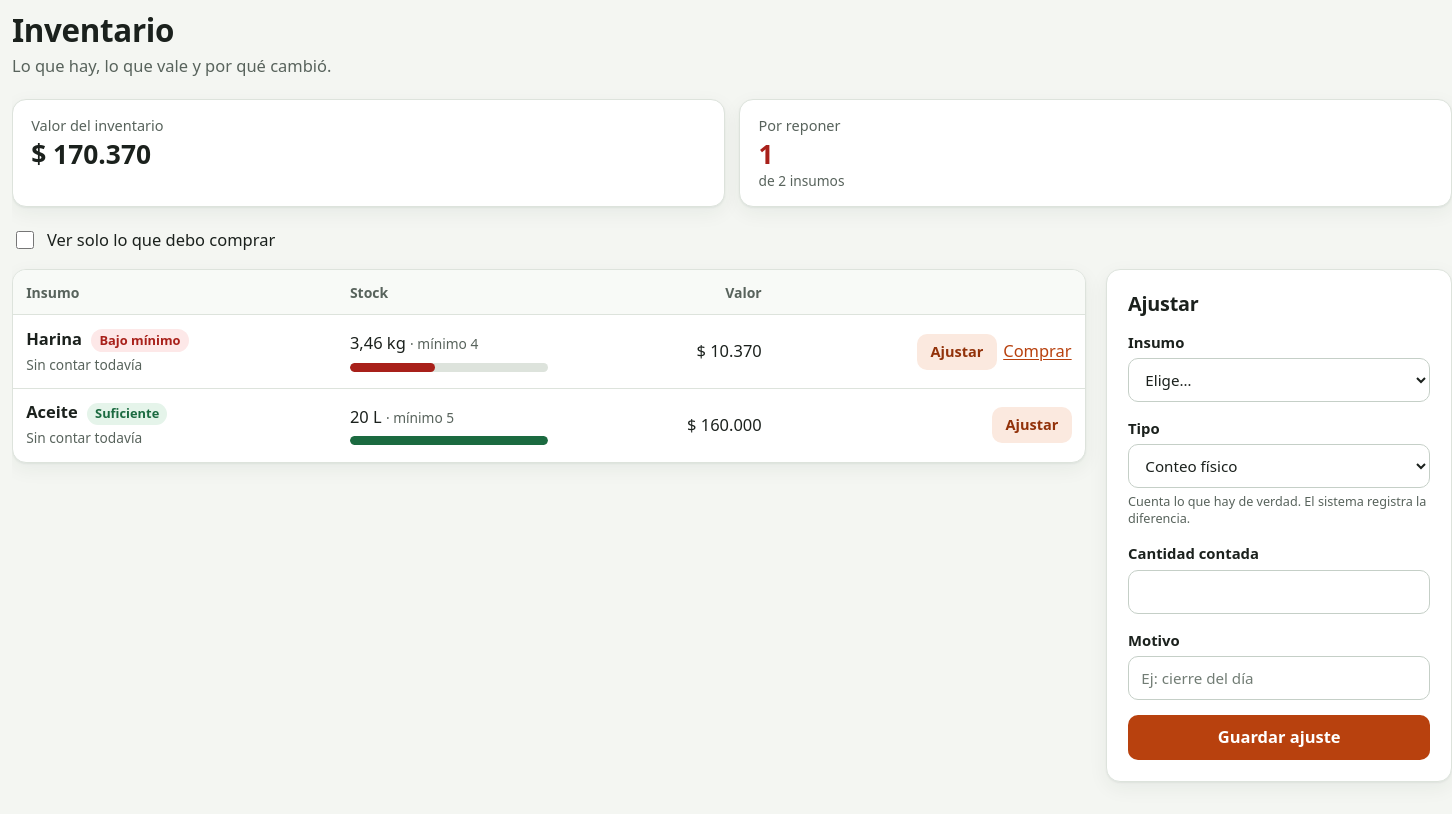
Test case: HU-30 Inventario claro (funcionales) › CA-3: puedo ver solo lo que debo comprar
Click the checkbox labelled "Ver solo lo que debo comprar": (25,240) [16, 231, 34, 249]
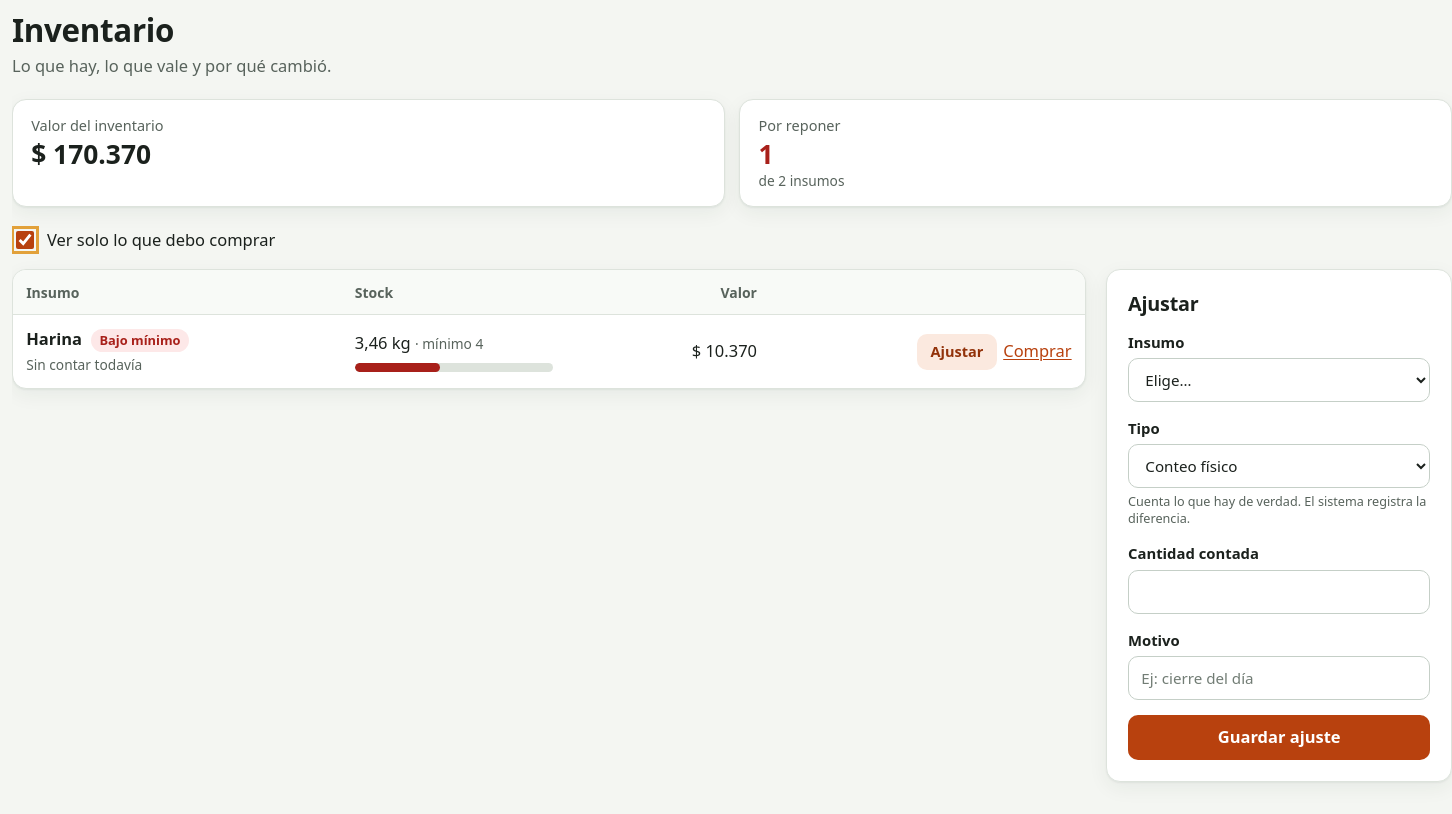
Expected: the text "Harina" is shown, [26, 327, 82, 350]
Now the text "Aceite" is gone
